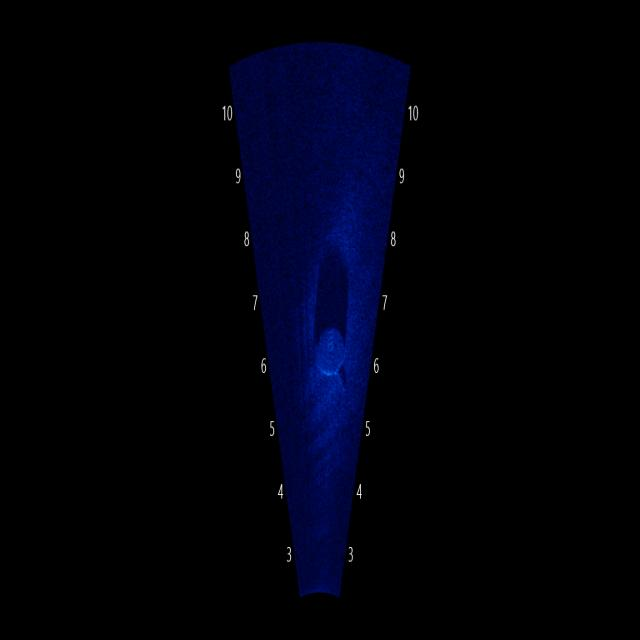circle: (311, 313, 353, 388)
